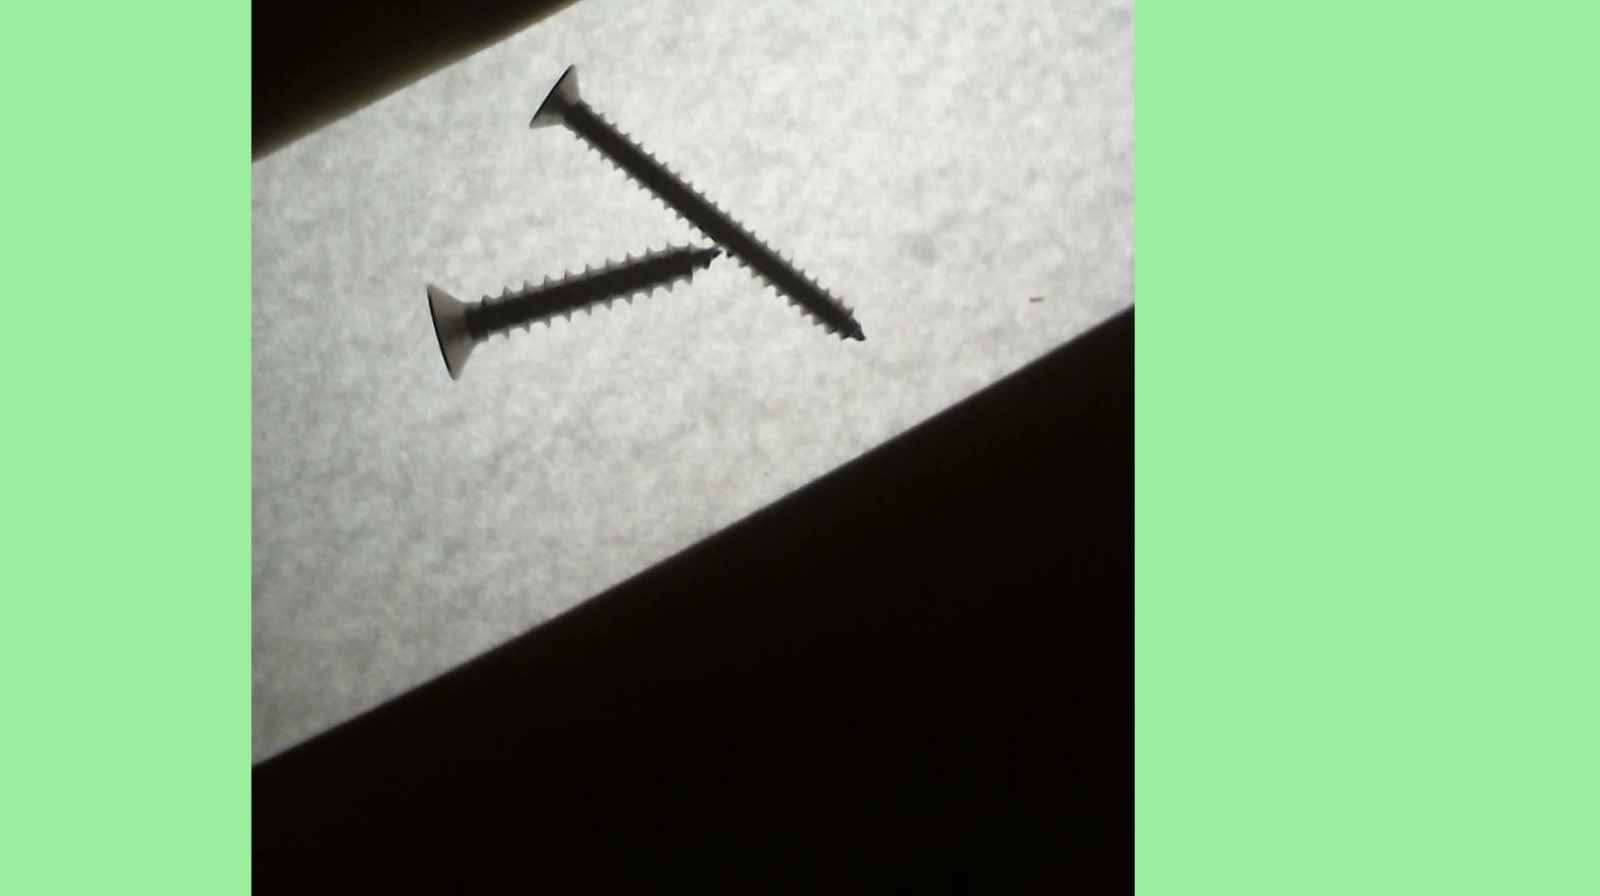S001: (422, 241, 720, 384)
S002: (527, 63, 870, 351)
